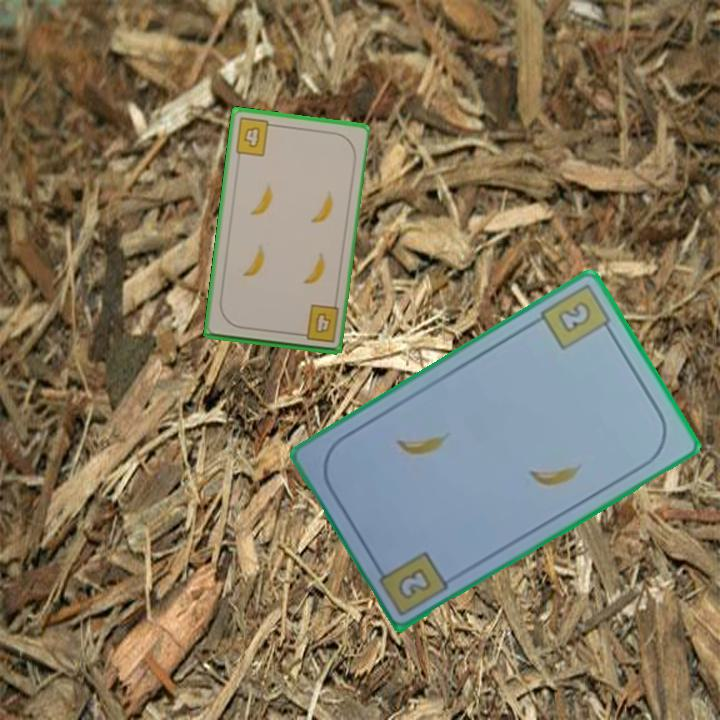2b: (536, 280, 617, 353), (394, 563, 435, 602)
4b: (231, 114, 279, 159), (294, 301, 342, 345)
